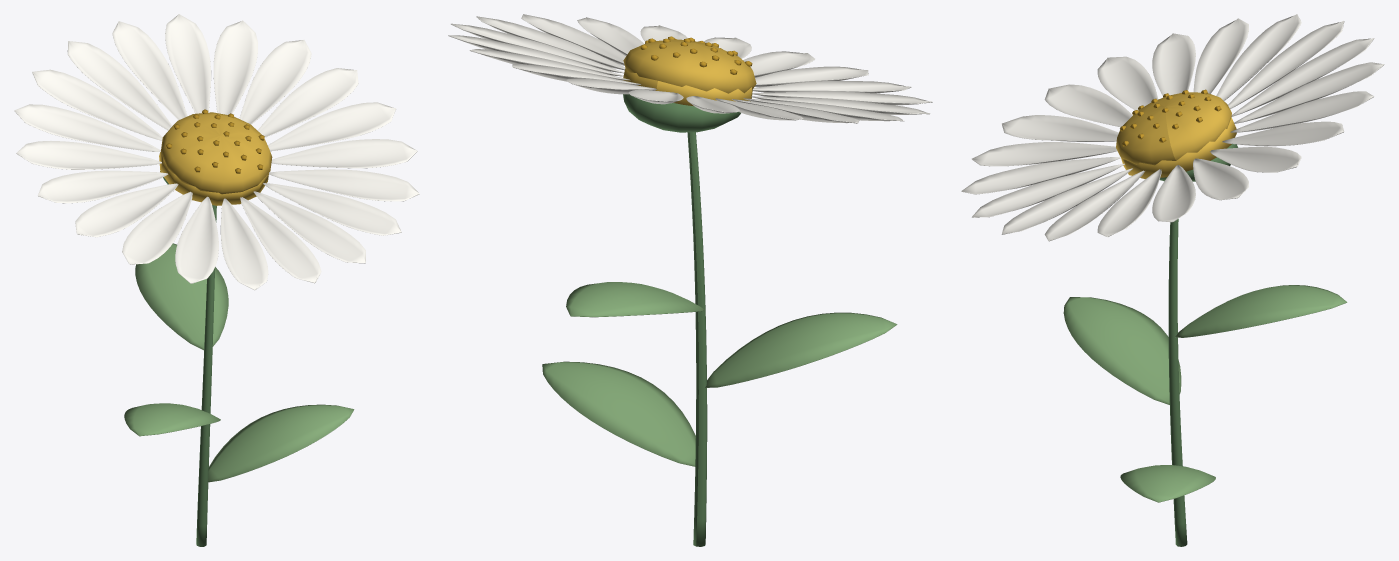
File: daisy-fine-v2.glb
The picture shows the model from 3 angles, left to right: view 1: azimuth 30°, elevation 25°; view 2: azimuth 150°, elevation 25°; view 3: azimuth 270°, elevation 25°; orthographic projection. The views are drawn at different scales.
Parts seen in each view (by area): view 1: daisy-fine-v2-petal, daisy-fine-v2-leaf, daisy-fine-v2-center, daisy-fine-v2-stem, daisy-fine-v2-pollen; view 2: daisy-fine-v2-petal, daisy-fine-v2-leaf, daisy-fine-v2-stem, daisy-fine-v2-center, daisy-fine-v2-pollen; view 3: daisy-fine-v2-petal, daisy-fine-v2-leaf, daisy-fine-v2-center, daisy-fine-v2-stem, daisy-fine-v2-pollen.
Part boxes in pixels (x1=…): daisy-fine-v2-petal: x1=14, y1=14, x2=419, y2=290; daisy-fine-v2-leaf: x1=124, y1=243, x2=354, y2=482; daisy-fine-v2-center: x1=159, y1=112, x2=272, y2=205; daisy-fine-v2-stem: x1=160, y1=171, x2=216, y2=546; daisy-fine-v2-pollen: x1=166, y1=109, x2=264, y2=173; daisy-fine-v2-petal: x1=448, y1=14, x2=932, y2=123; daisy-fine-v2-leaf: x1=542, y1=282, x2=897, y2=466; daisy-fine-v2-stem: x1=623, y1=94, x2=740, y2=546; daisy-fine-v2-center: x1=623, y1=39, x2=756, y2=106; daisy-fine-v2-pollen: x1=640, y1=36, x2=752, y2=74; daisy-fine-v2-petal: x1=961, y1=14, x2=1384, y2=241; daisy-fine-v2-leaf: x1=1063, y1=285, x2=1347, y2=502; daisy-fine-v2-center: x1=1116, y1=92, x2=1236, y2=178; daisy-fine-v2-stem: x1=1159, y1=144, x2=1237, y2=546; daisy-fine-v2-pollen: x1=1120, y1=89, x2=1221, y2=146.
Bounding box in the file's own units: 1.31 × 1.58 × 1.25.
